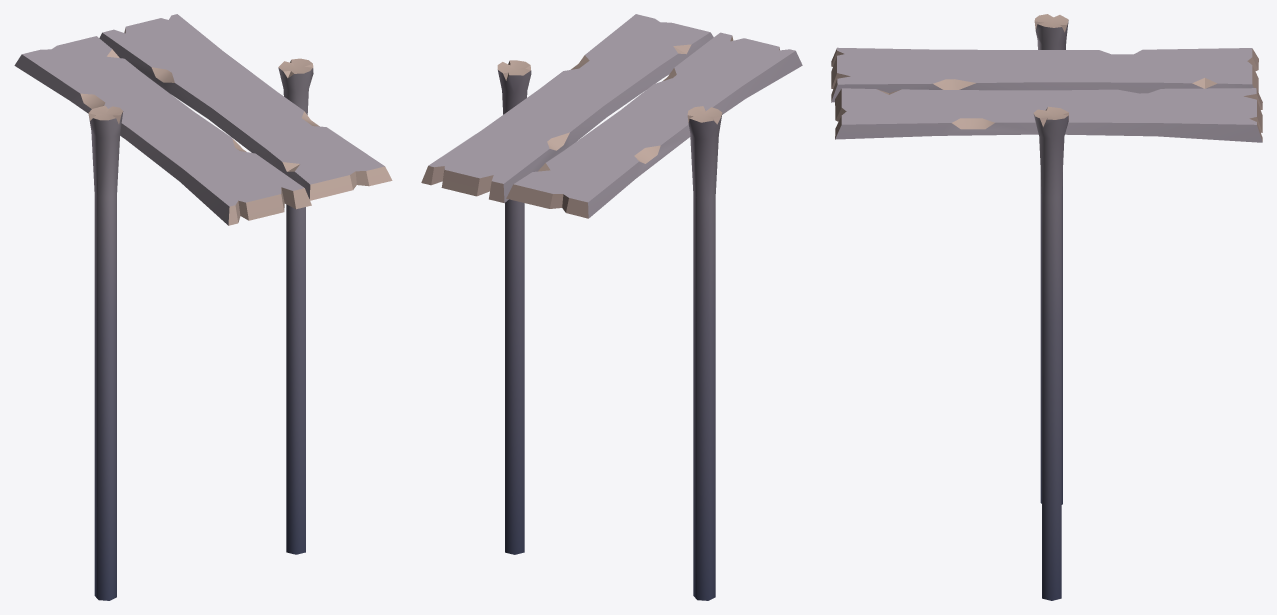
The model's file is Lane-forest_gap_fill_M.glb.
The picture shows the model from 3 angles, left to right: view 1: azimuth 30°, elevation 25°; view 2: azimuth 150°, elevation 25°; view 3: azimuth 270°, elevation 25°; orthographic projection.
Parts seen in each view (by area): view 1: Lane-forest_gap_fill_M; view 2: Lane-forest_gap_fill_M; view 3: Lane-forest_gap_fill_M.
Boxes of the visible parts, <box> form: Lane-forest_gap_fill_M: <box>14,14,392,600</box>; Lane-forest_gap_fill_M: <box>421,14,802,600</box>; Lane-forest_gap_fill_M: <box>831,14,1262,600</box>.
Bounding box in the file's own units: 3.46 × 7.29 × 5.9.
